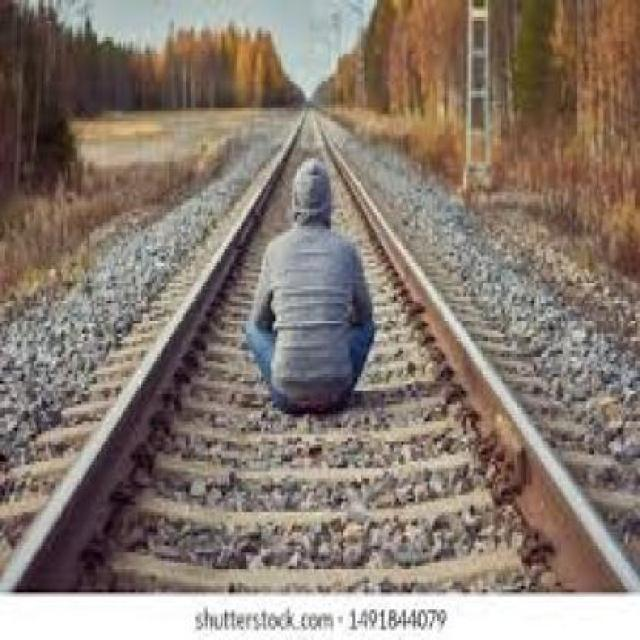danger: (258, 168, 356, 426)
rail: (0, 97, 640, 596)
